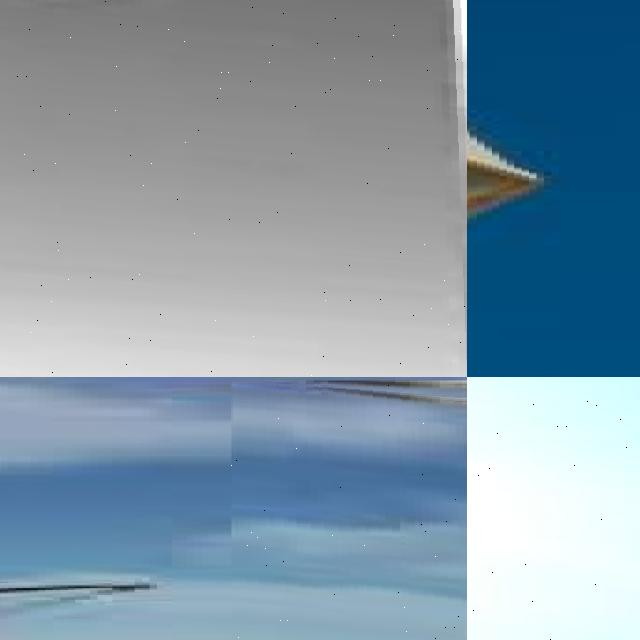street light: (0, 0, 467, 377), (231, 380, 467, 640), (467, 377, 640, 640)
